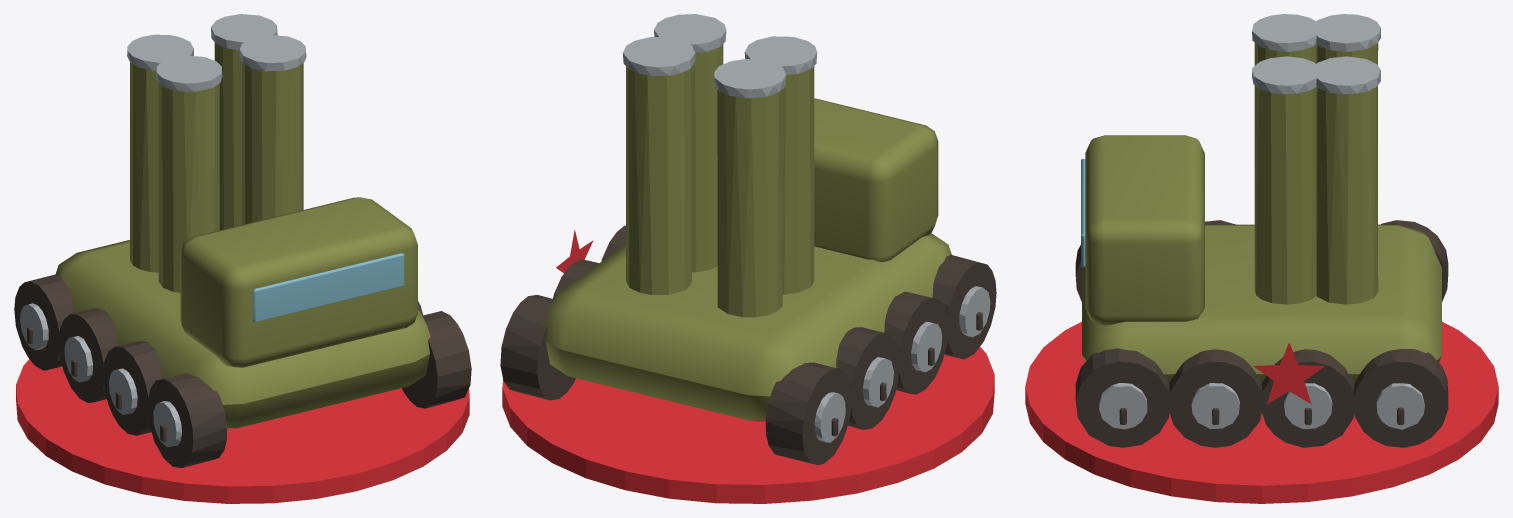
Rendered from soviet_union_missile_lod0.glb.
3 renders of one model, left to right at view 1: azimuth 30°, elevation 25°; view 2: azimuth 150°, elevation 25°; view 3: azimuth 270°, elevation 25°, orthographic. The views are drawn at different scales.
Parts seen in each view (by area): view 1: body_hull, base_pedestal; view 2: body_hull, base_pedestal; view 3: body_hull, base_pedestal.
Part boxes in pixels (box(x1,y1,x2,y2)): body_hull: box(14, 14, 471, 467); base_pedestal: box(16, 359, 469, 503); body_hull: box(500, 14, 996, 465); base_pedestal: box(502, 347, 994, 503); body_hull: box(1075, 14, 1448, 447); base_pedestal: box(1025, 321, 1498, 503).
Size of the model in its own units: 0.78 by 0.6439 by 0.78.
